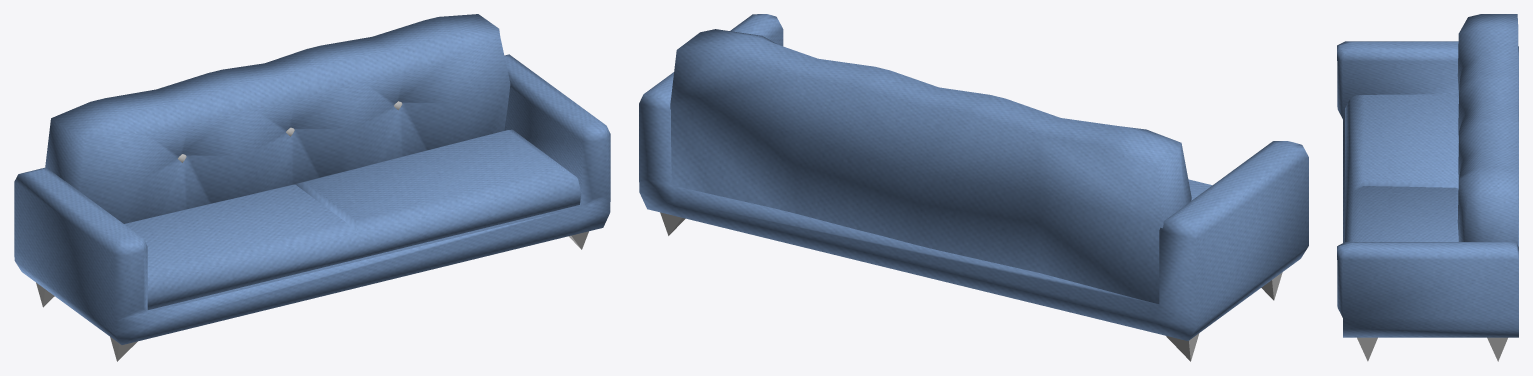
The model's file is Sofa_H_3.FBX.
The picture shows the model from 3 angles, left to right: view 1: azimuth 30°, elevation 25°; view 2: azimuth 150°, elevation 25°; view 3: azimuth 270°, elevation 25°; orthographic projection. The views are drawn at different scales.
Visible parts, largest first — view 1: Sofa; view 2: Sofa; view 3: Sofa.
Part boxes in pixels (box(x1,y1,x2,y2)): Sofa: box(14, 14, 610, 361); Sofa: box(639, 14, 1308, 361); Sofa: box(1337, 14, 1518, 361).
Bounding box in the file's own units: 468 × 168 × 169.
